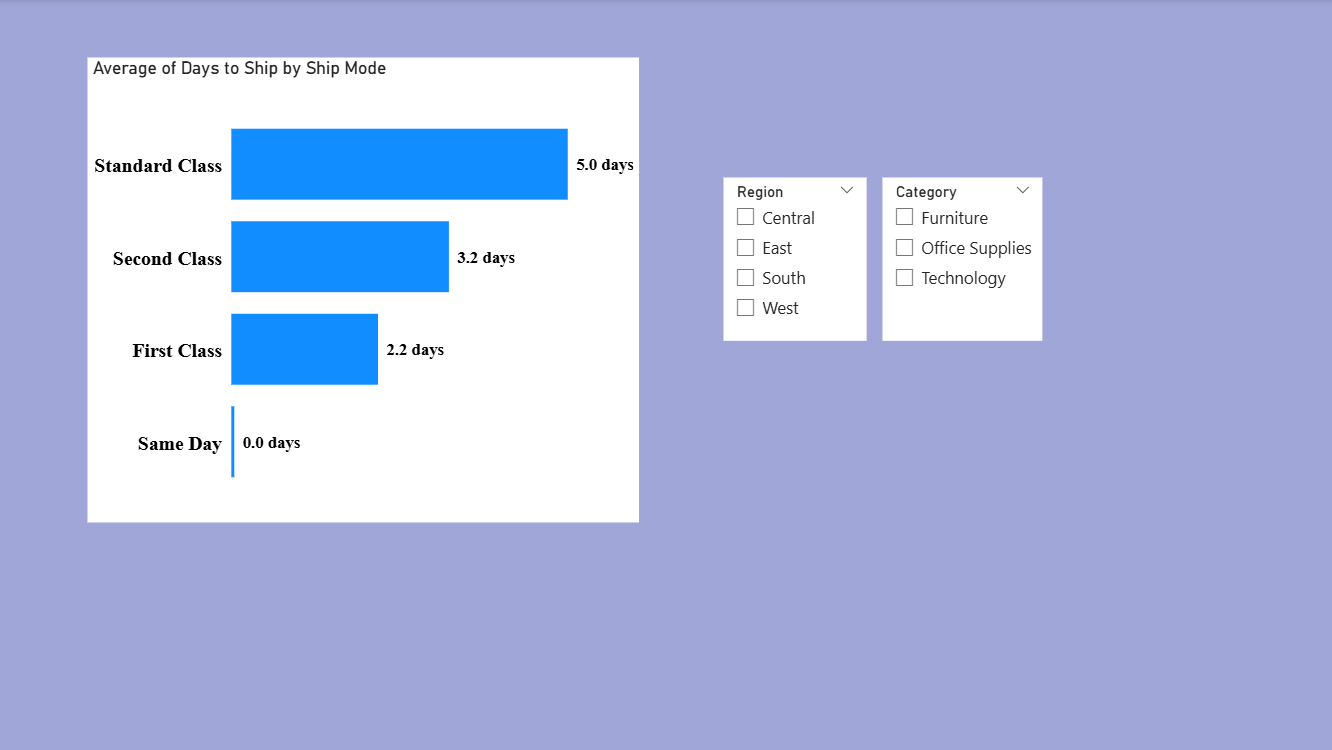

This screenshot's page, from the dashboard's own definition file:
{"tool":"powerbi","page":{"name":"Page 8","canvas":[1280,720],"ordinal":7},"visuals":[{"type":"clusteredBarChart","fields":{"Category":["Superstore sales dataset.Ship Mode"],"Y":["Avg(Superstore sales dataset.Days to Ship)"]},"box":[87.5,55.7,526.5,443.8],"z":0},{"type":"slicer","fields":{"Values":["Superstore sales dataset.Region"]},"box":[695.1,170.2,136.8,155.9],"z":1000},{"type":"slicer","fields":{"Values":["Superstore sales dataset.Category"]},"box":[846.2,170.2,152.7,155.9],"z":2000}]}

Visuals, with their boxes in screenshot pixels (x1, y1, x2, y2), scaled from the page's 1280x720 canvas onto the 1332x750 screenshot:
clusteredBarChart - Superstore sales dataset.Ship Mode x Avg(Superstore sales dataset.Days to Ship): detection(91, 58, 639, 520)
slicer - Superstore sales dataset.Region: detection(723, 177, 866, 340)
slicer - Superstore sales dataset.Category: detection(881, 177, 1039, 340)
